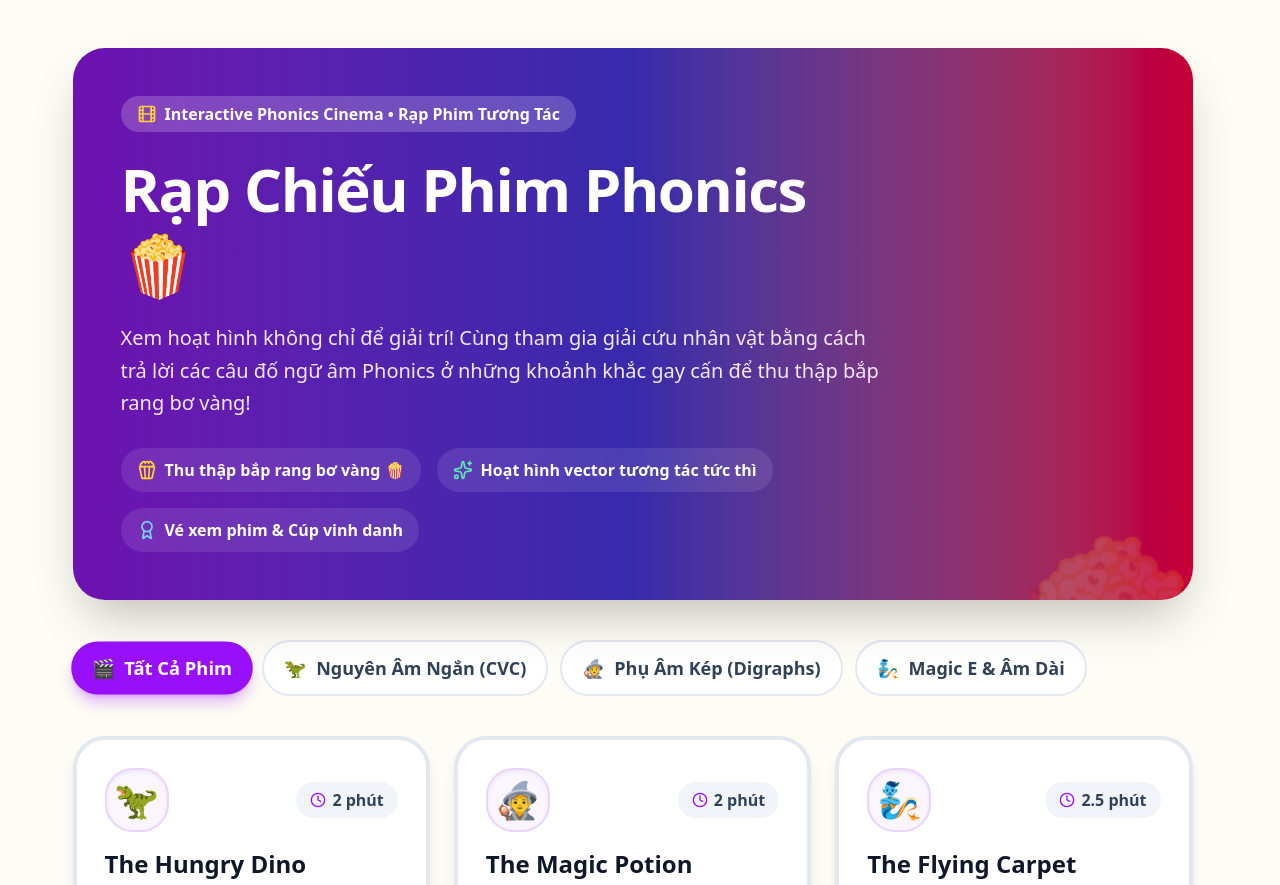
Interactive Phonics Cinema Components › PhonicsCinemaHub › renders all 3 episodes and filters by category
This screenshot has width=1280, height=885.
expect the heading "Rạp Chiếu Phim Phonics 🍿" is shown: met, box [120, 152, 888, 302]
expect the heading "The Hungry Dino" is shown: met, box [104, 846, 306, 880]
# Filter by Digraphs
What coordinates should you click on to do the following:
click the button "🧙 Phụ Âm Kép (Digraphs)"
I would click on:
 (701, 668)
Its box is [560, 640, 843, 696].
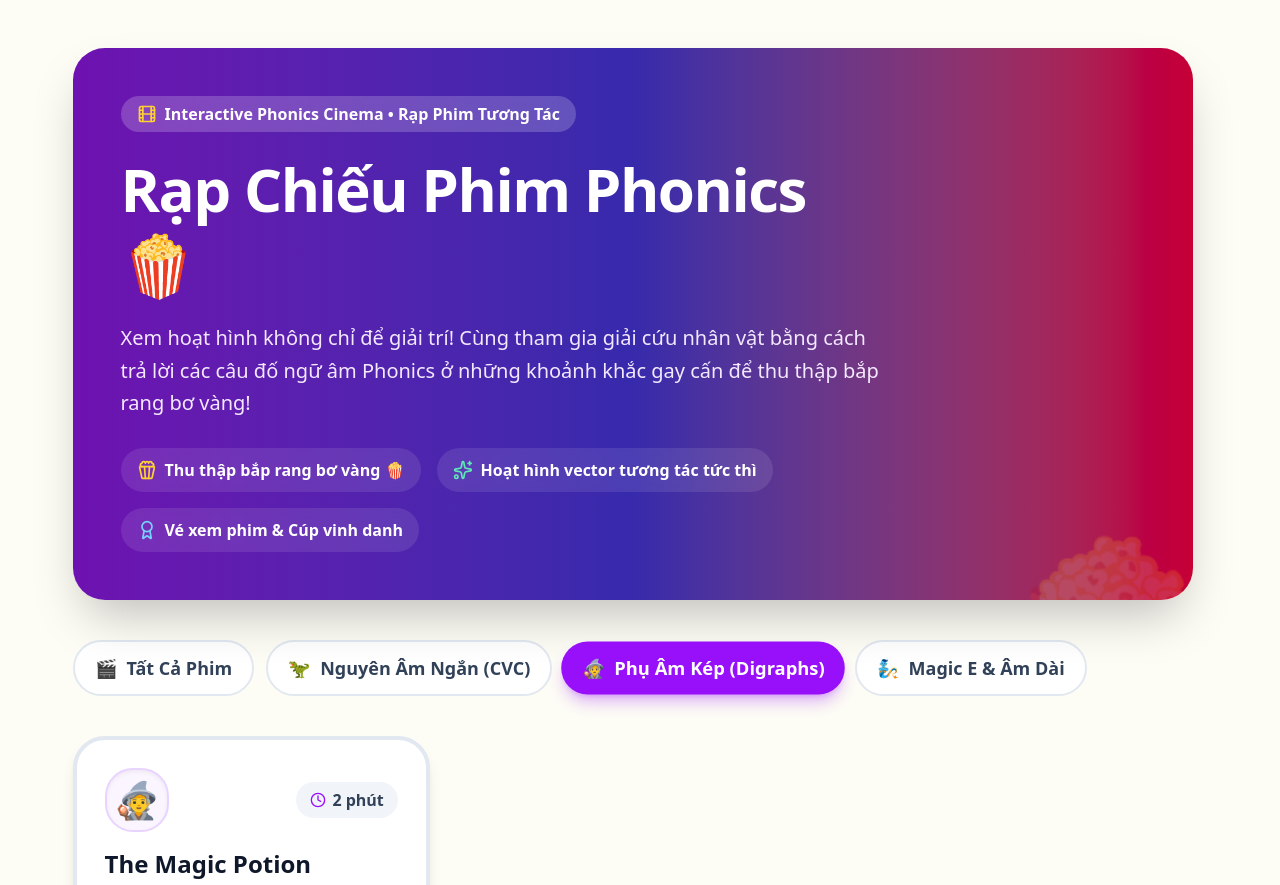
expect the heading "The Magic Potion" is shown: met, box [104, 846, 311, 880]
expect the heading "The Hungry Dino" is gone: met
expect the heading "The Flying Carpet" is gone: met
